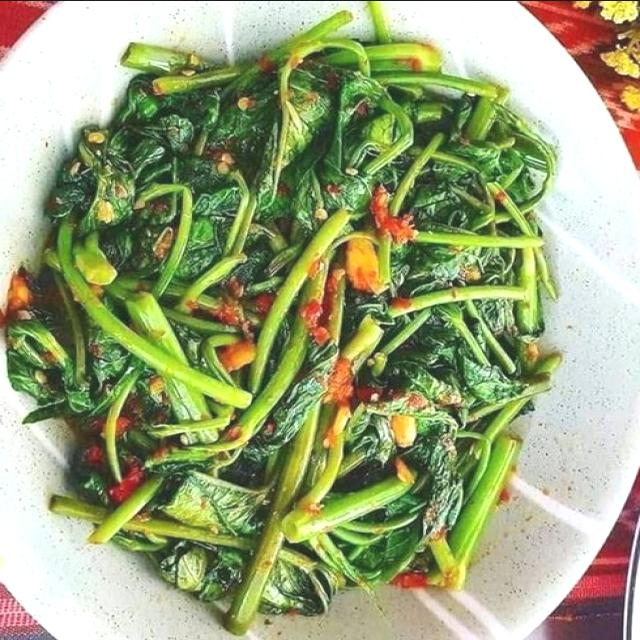tumis kangkung: (0, 14, 562, 636)
